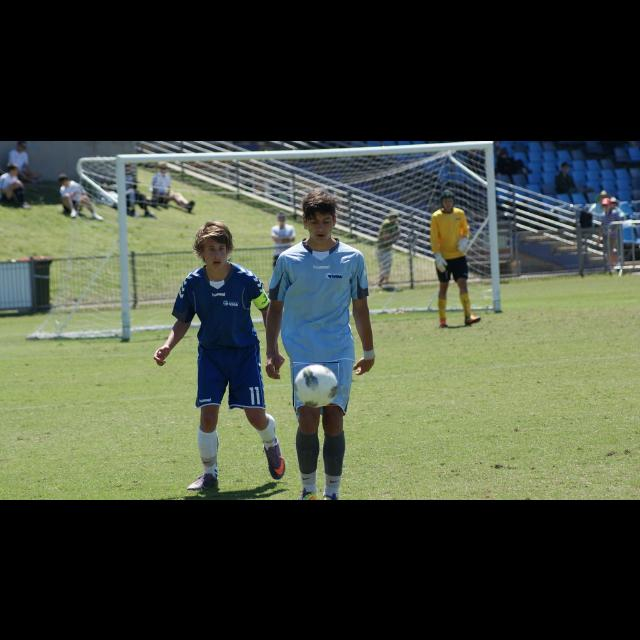Football: (293, 362, 339, 406)
